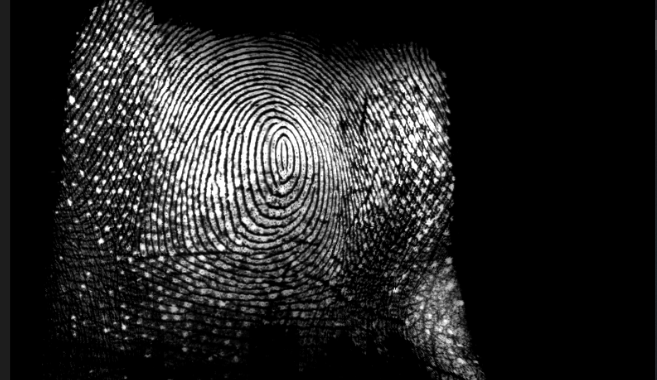nucelo: (270, 130, 296, 177)
verticilo: (113, 232, 148, 260)
